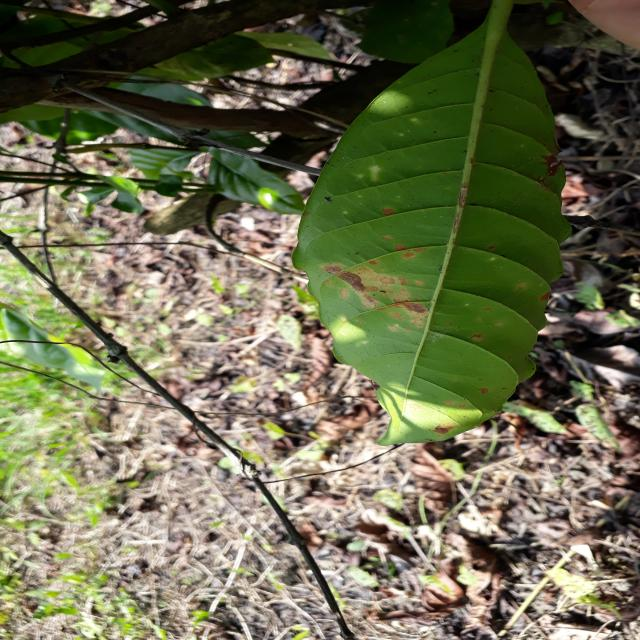Plaga-AranaRoja: (292, 0, 571, 449)
